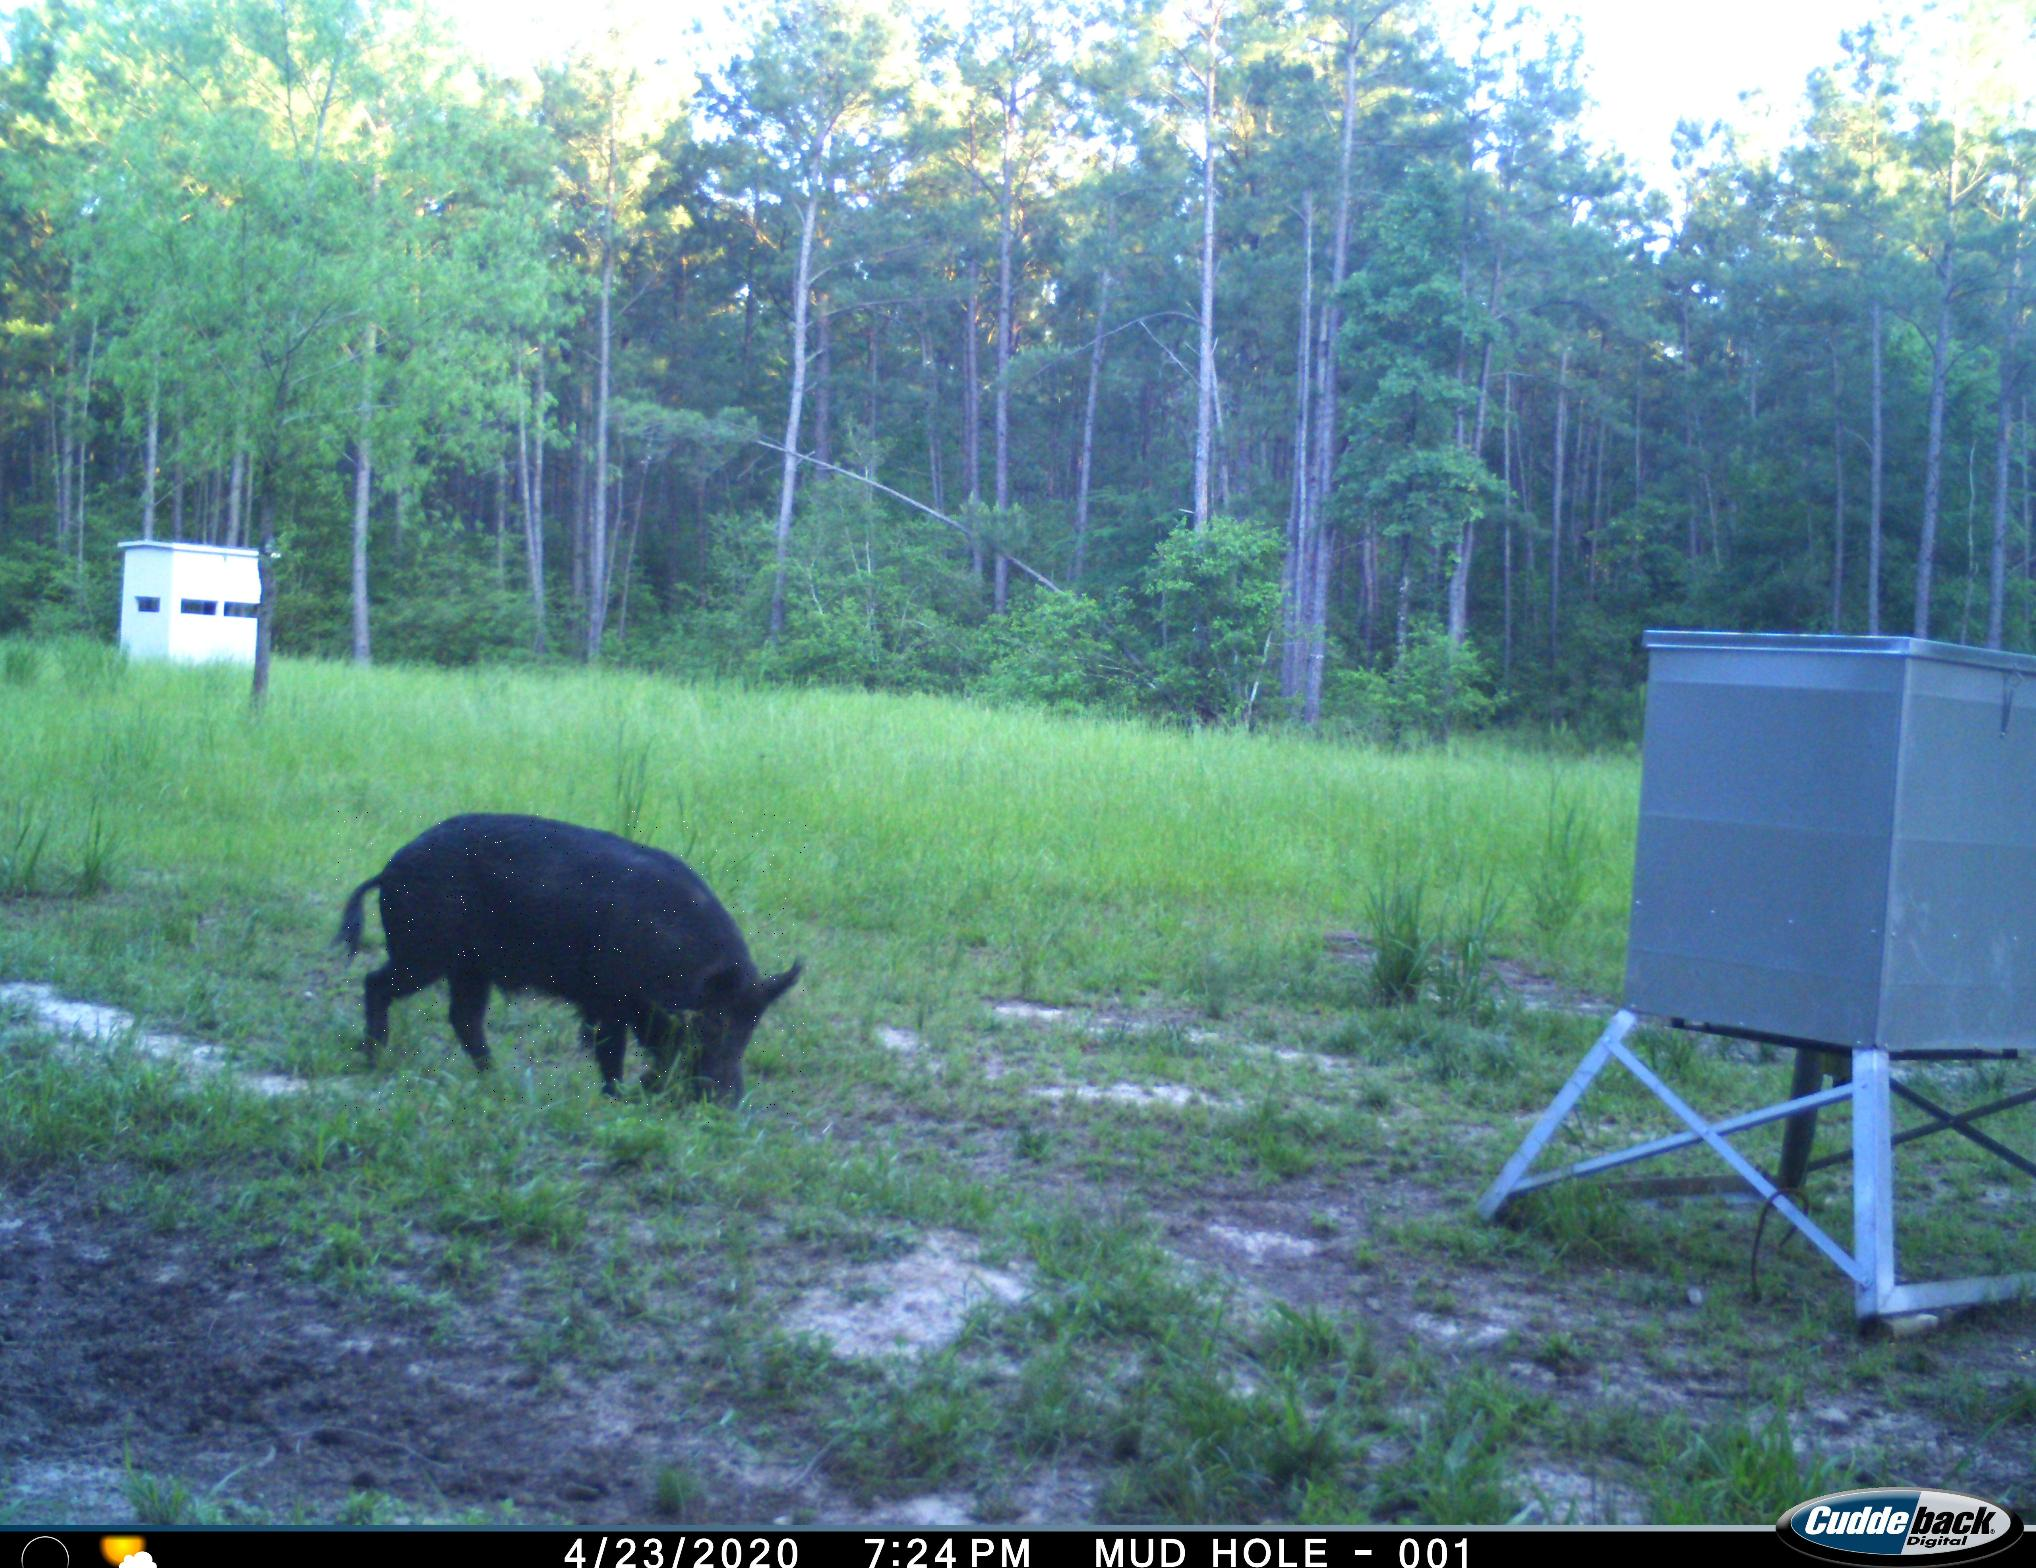Hog: (336, 810, 806, 1123)
